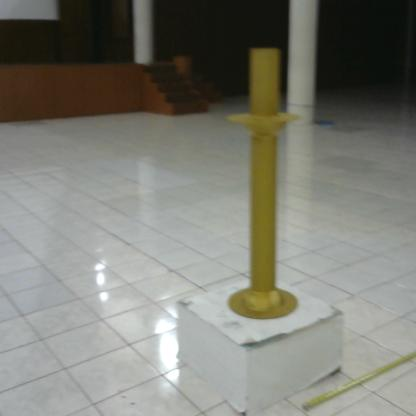pole: (222, 43, 309, 329)
